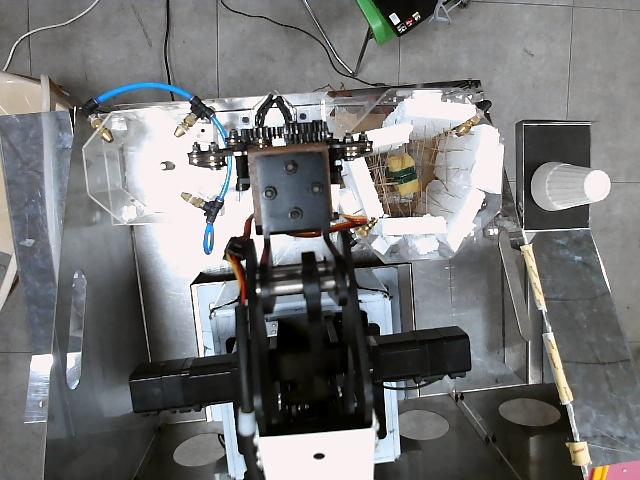cup: (531, 162, 610, 210)
